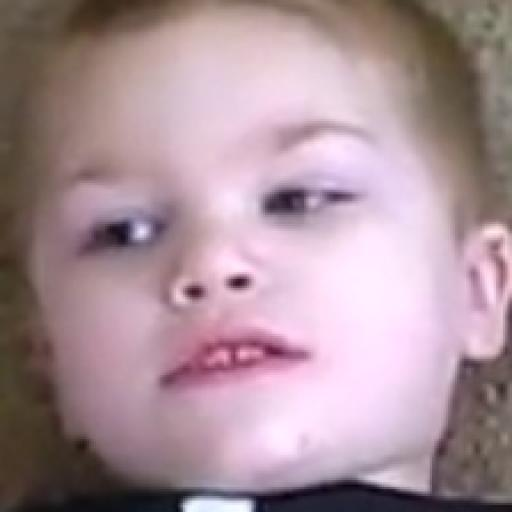Autism: (14, 5, 512, 483)
